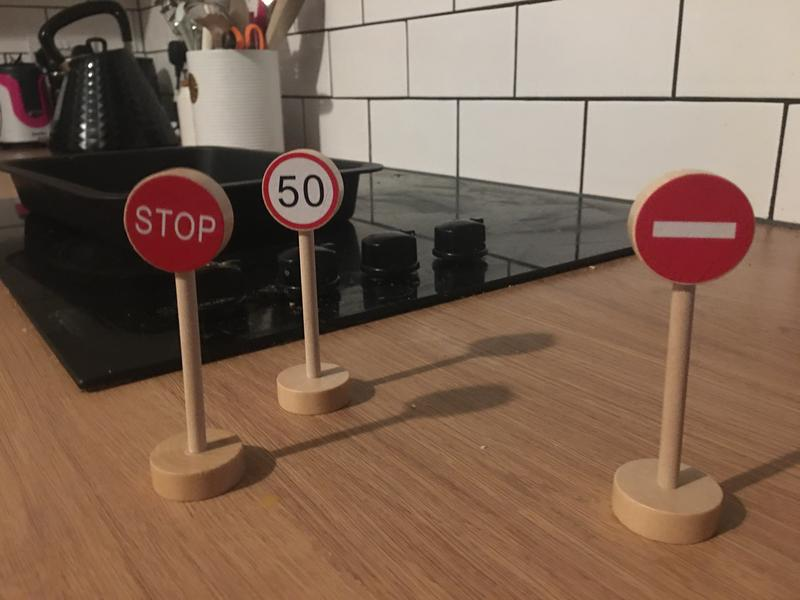Traffic_Sign_50: (264, 151, 338, 232)
Traffic_Sign_No_Entry: (635, 171, 753, 285)
Traffic_Sign_Stop: (124, 174, 228, 275)
